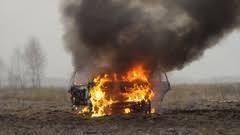fire: (79, 62, 157, 118)
